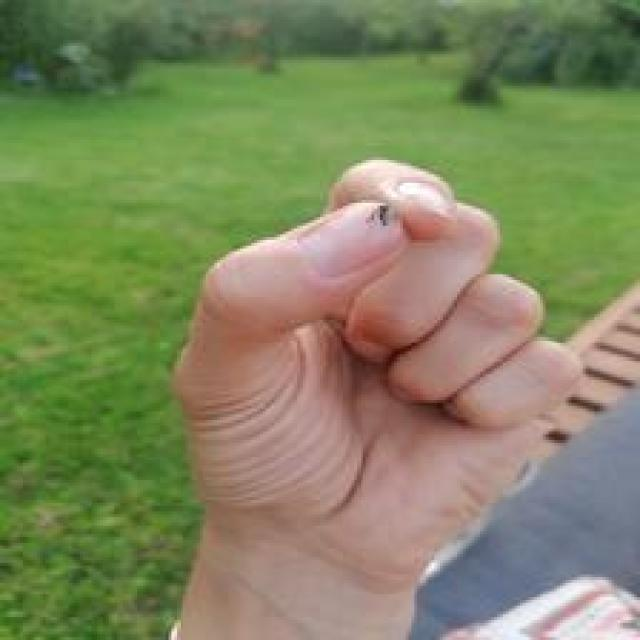Aedes albopictus: (366, 203, 391, 228)
